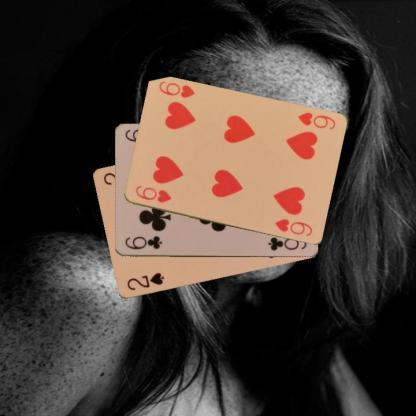2s: (124, 270, 165, 292)
6c: (122, 233, 163, 251)
6h: (132, 183, 172, 205), (296, 110, 336, 131)
